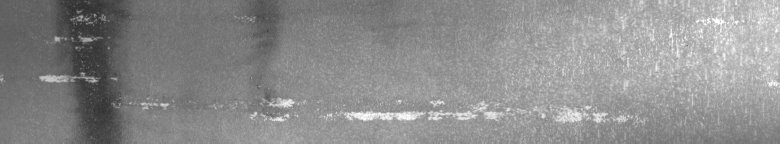hc: (39, 6, 174, 109)
